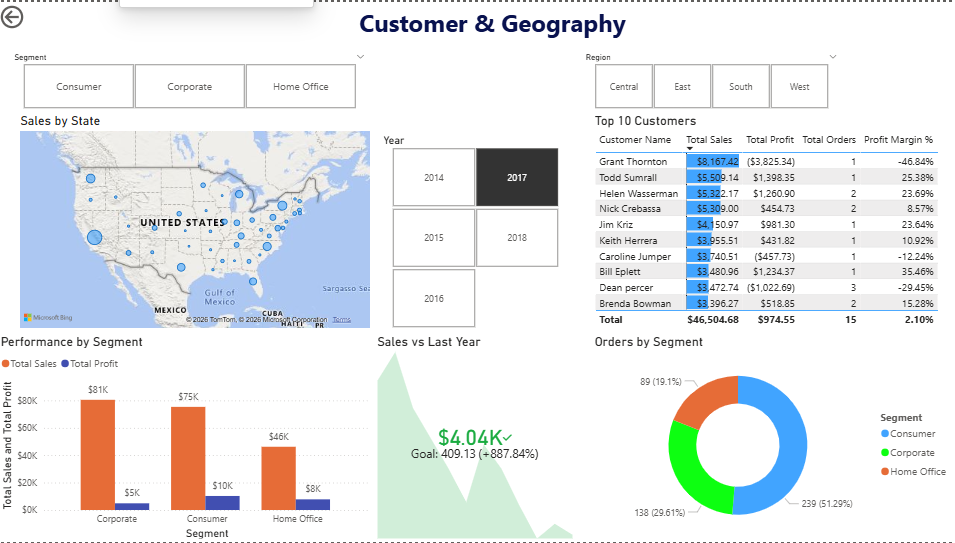

The page's visual inventory and layout, read from the dashboard file:
{"tool":"powerbi","page":{"name":" Customer & Geography ","canvas":[1280,720],"ordinal":2},"visuals":[{"type":"textbox","box":[10,0,1270,62],"z":0},{"type":"map","title":"Sales by State","fields":{"Category":["Sample - Superstore.State"],"Size":["_Measures.Total Sales"]},"box":[26,148,476,292],"z":1},{"type":"actionButton","box":[0,0,100,40],"z":2},{"type":"tableEx","title":"Top 10 Customers","fields":{"Values":["Customers.Customer Name","_Measures.Total Sales","_Measures.Total Profit","_Measures.Total Orders","_Measures.Profit Margin %"]},"box":[792,148,488,294],"z":3},{"type":"clusteredColumnChart","title":"Performance by Segment","fields":{"Category":["Sample - Superstore.Segment"],"Y":["_Measures.Total Sales","_Measures.Total Profit"]},"box":[0,442,502,278],"z":4},{"type":"kpi","title":"Sales vs Last Year","fields":{"Indicator":["_Measures.Total Sales"],"TrendLine":["Date Table.Month"],"Goal":["_Measures.Sales LY"]},"box":[502,442,270,278],"z":5},{"type":"donutChart","title":"Orders by Segment","fields":{"Category":["Sample - Superstore.Segment"],"Y":["_Measures.Total Orders"]},"box":[792,442,488,278],"z":6},{"type":"slicer","fields":{"Values":["Date Table.Year"]},"box":[502,170,270,270],"z":7},{"type":"slicer","fields":{"Values":["Sample - Superstore.Region"]},"box":[772,62,360,86],"z":8},{"type":"slicer","fields":{"Values":["Sample - Superstore.Segment"]},"box":[10,62,492,86],"z":9}]}

Visuals, with their boxes in screenshot pixels (x1, y1, x2, y2), scaled from the page's 1280x720 canvas onto the 955x543 screenshot:
textbox: bbox=(7, 0, 954, 47)
"Sales by State" map: bbox=(19, 112, 375, 332)
actionButton: bbox=(0, 0, 75, 30)
"Top 10 Customers" tableEx: bbox=(591, 112, 954, 333)
"Performance by Segment" clusteredColumnChart: bbox=(0, 333, 375, 542)
"Sales vs Last Year" kpi: bbox=(375, 333, 576, 542)
"Orders by Segment" donutChart: bbox=(591, 333, 954, 542)
slicer - Date Table.Year: bbox=(375, 128, 576, 332)
slicer - Sample - Superstore.Region: bbox=(576, 47, 845, 112)
slicer - Sample - Superstore.Segment: bbox=(7, 47, 375, 112)
